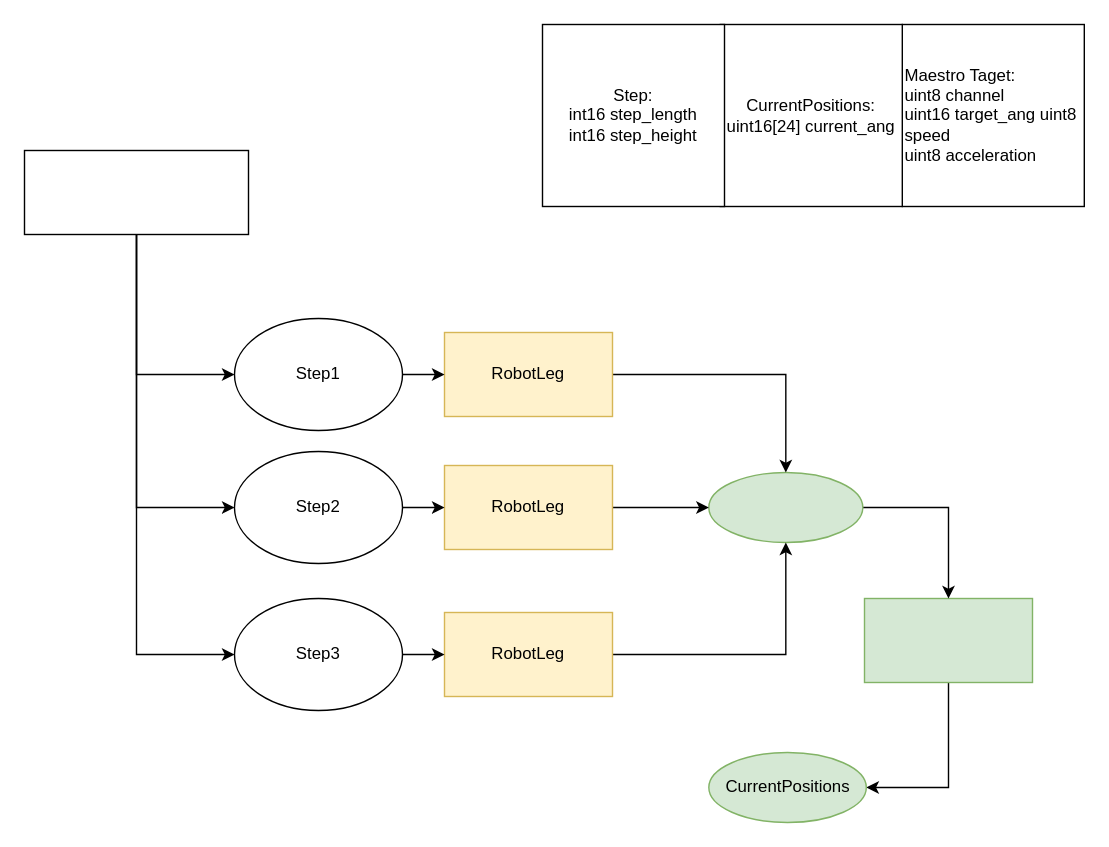
This 1109x847 diagram has some shape labels left out. The centre of each missing label's shape, as x and y in pixels:
MaestroTarget: the point at 785,506
Main_three_legged_body: the point at 135,191
Polulu Maestro - maestro ros wrapper: the point at 947,639
